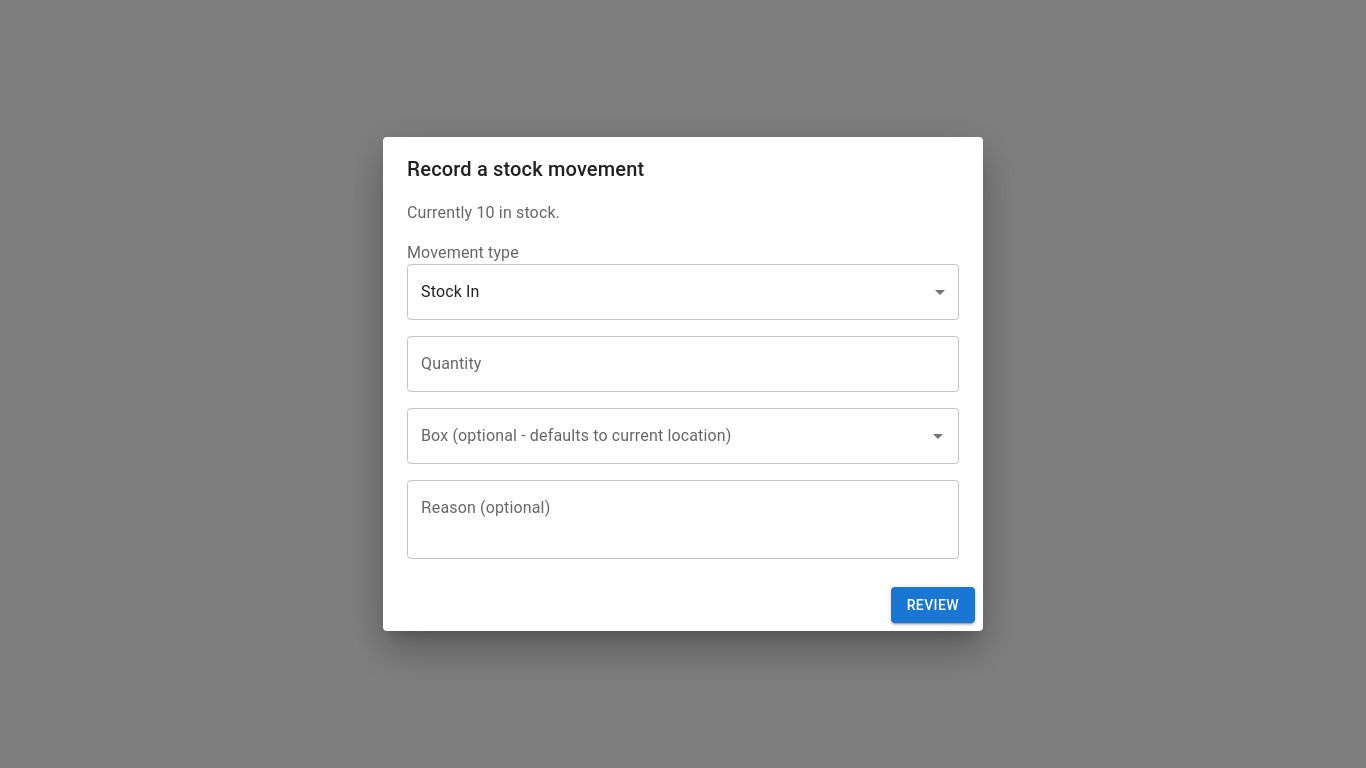
StockMovementDialog › Adjust: requires a non-zero change and a reason
Click the dropdown labelled "Stock In": [450, 292] box [421,282,480,301]
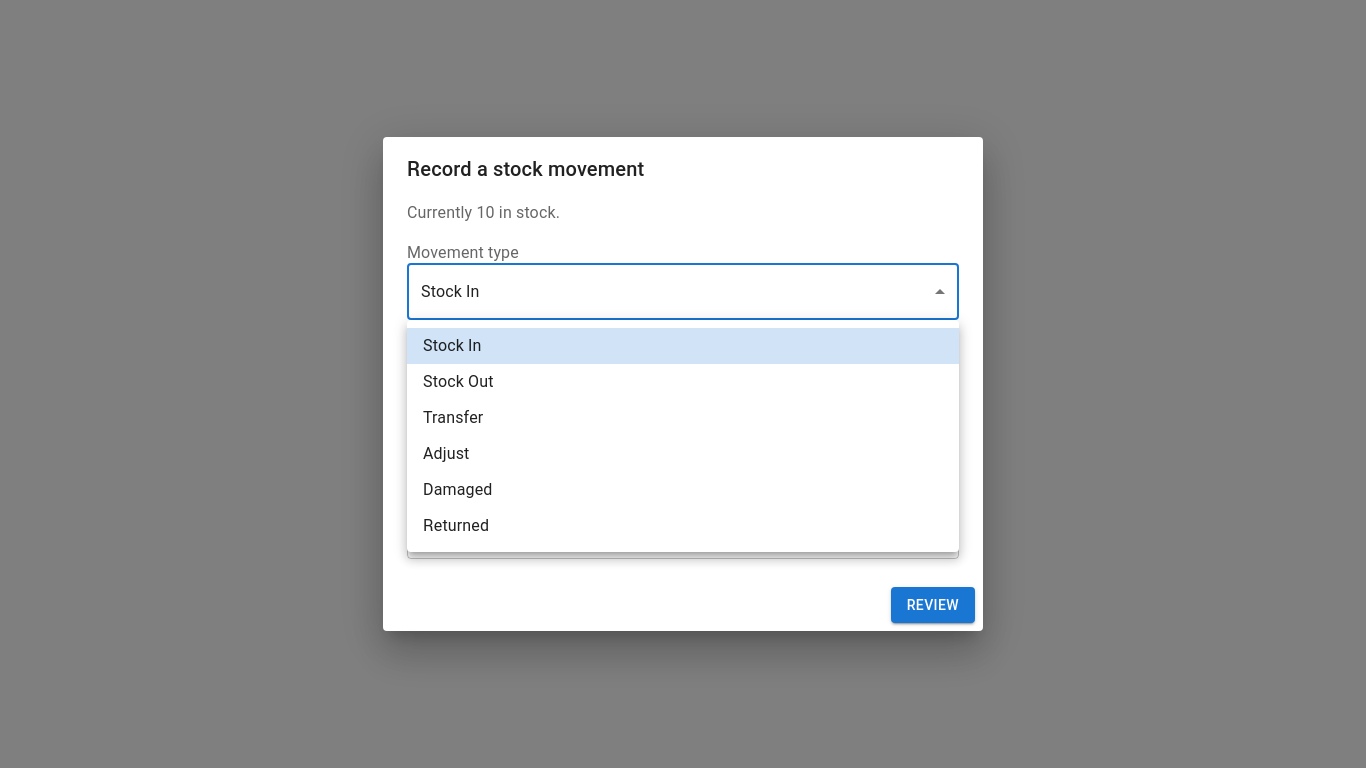
Click the option "Adjust": [446, 454] box [423,444,470,463]
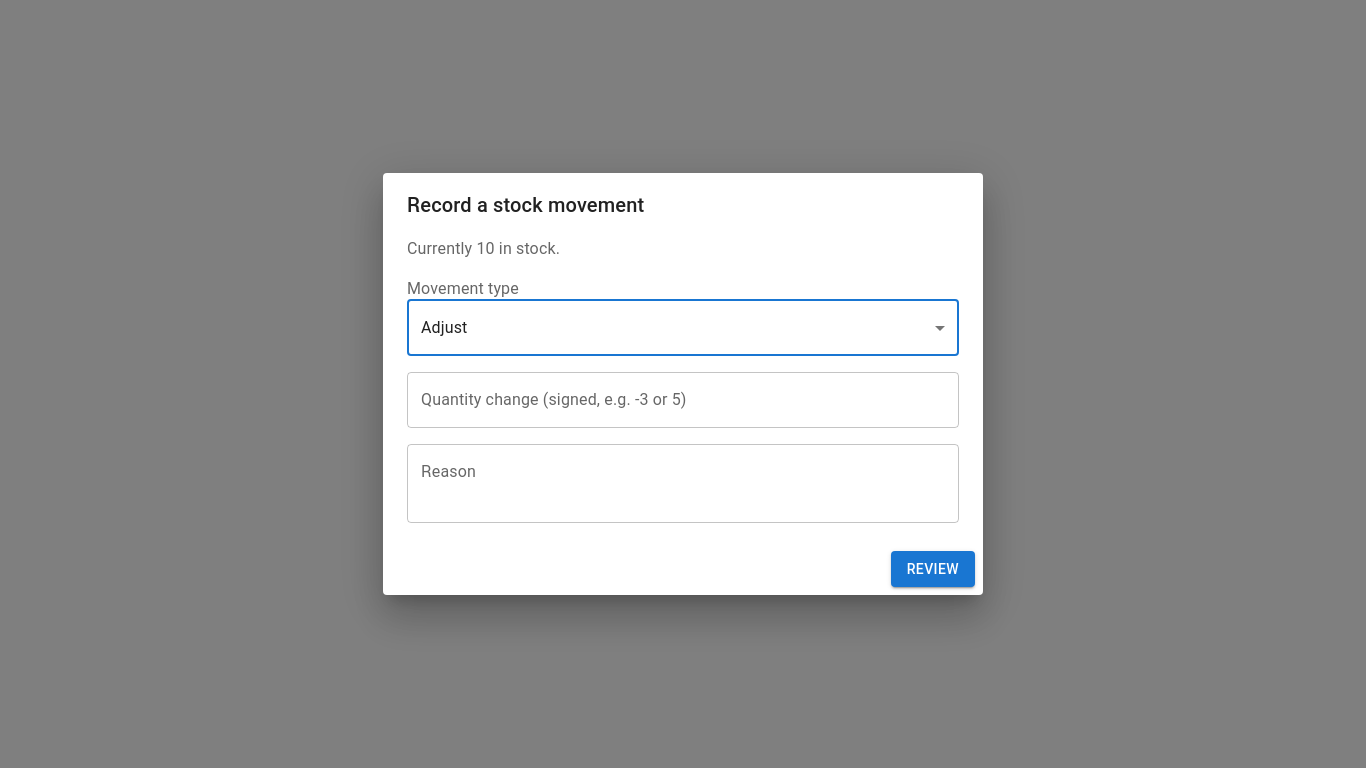
In the number field: [683, 400] box [407,372,959,428], type "0"
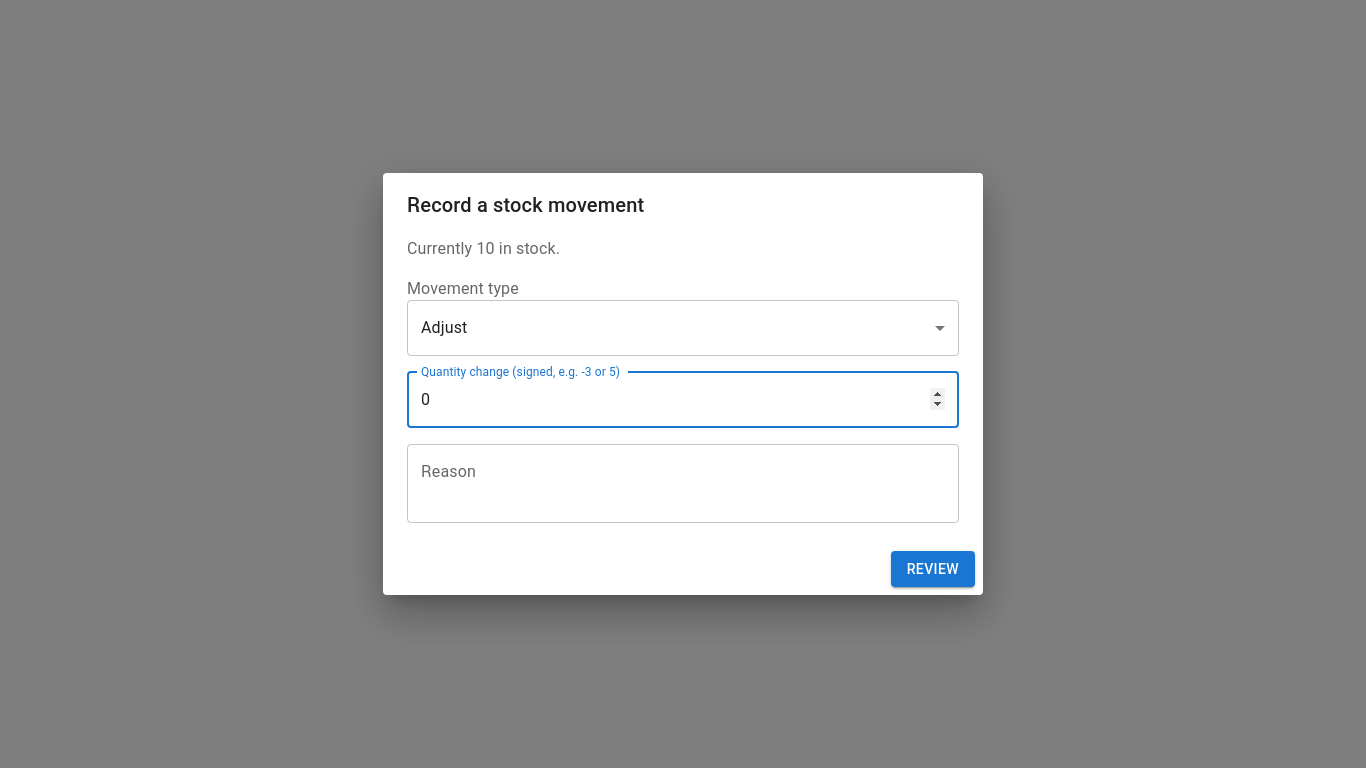
Click the button "Review": [933, 569] box [891,551,975,587]
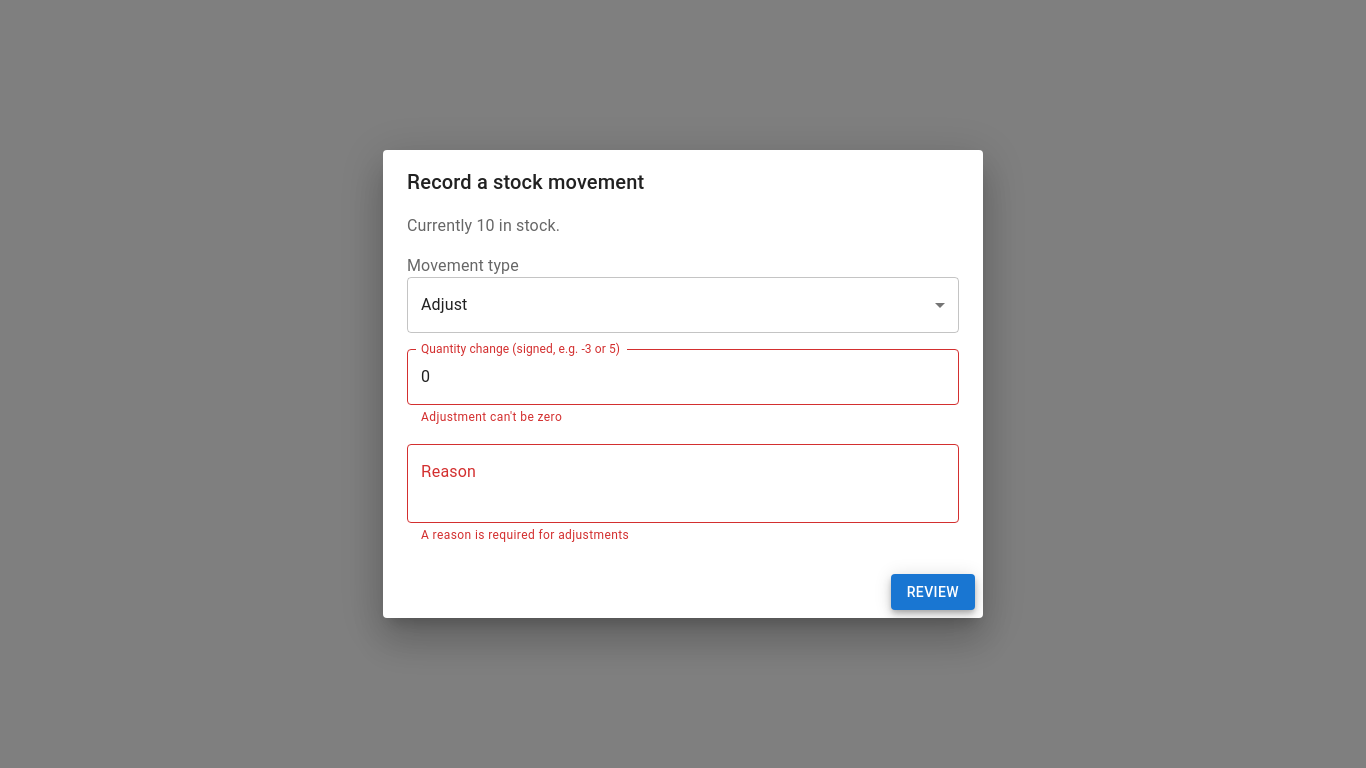
Check: the text "Adjustment can't be zero" is shown, box [421,410,562,424]
